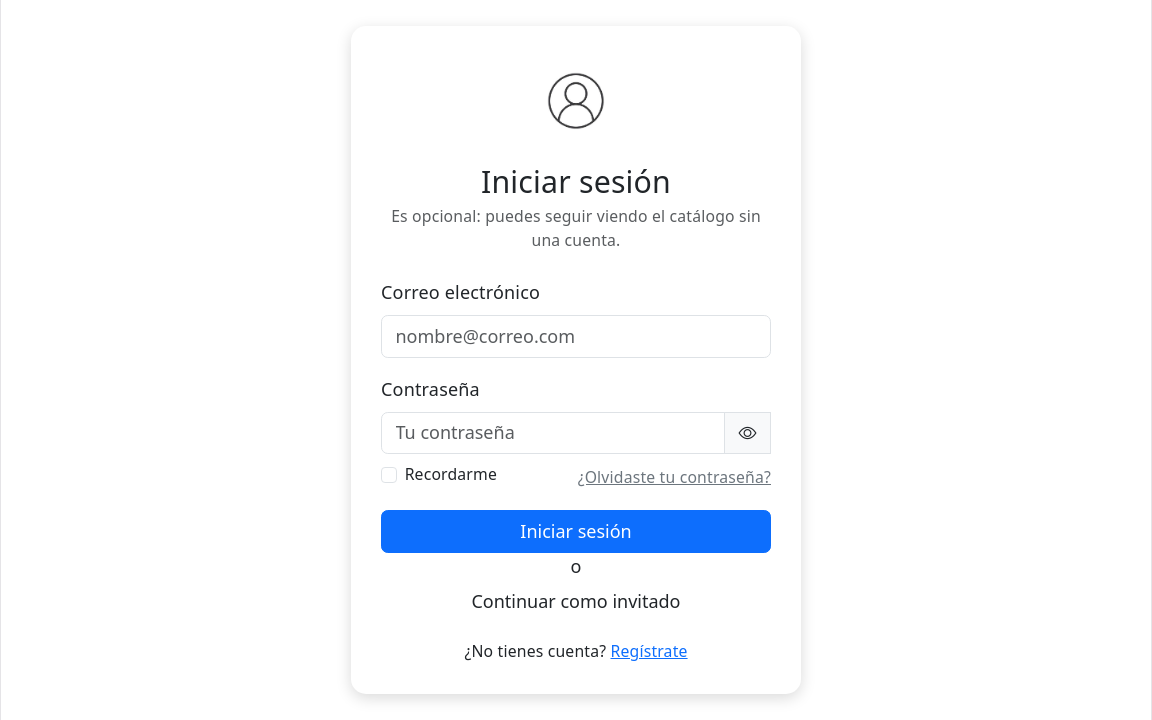
it: inicio de sesión › las contraseñas no se validan en localStorage
Type "user@playroute.com" into the field labelled "Correo electrónico" at [576, 336], box [381,315,771,358]
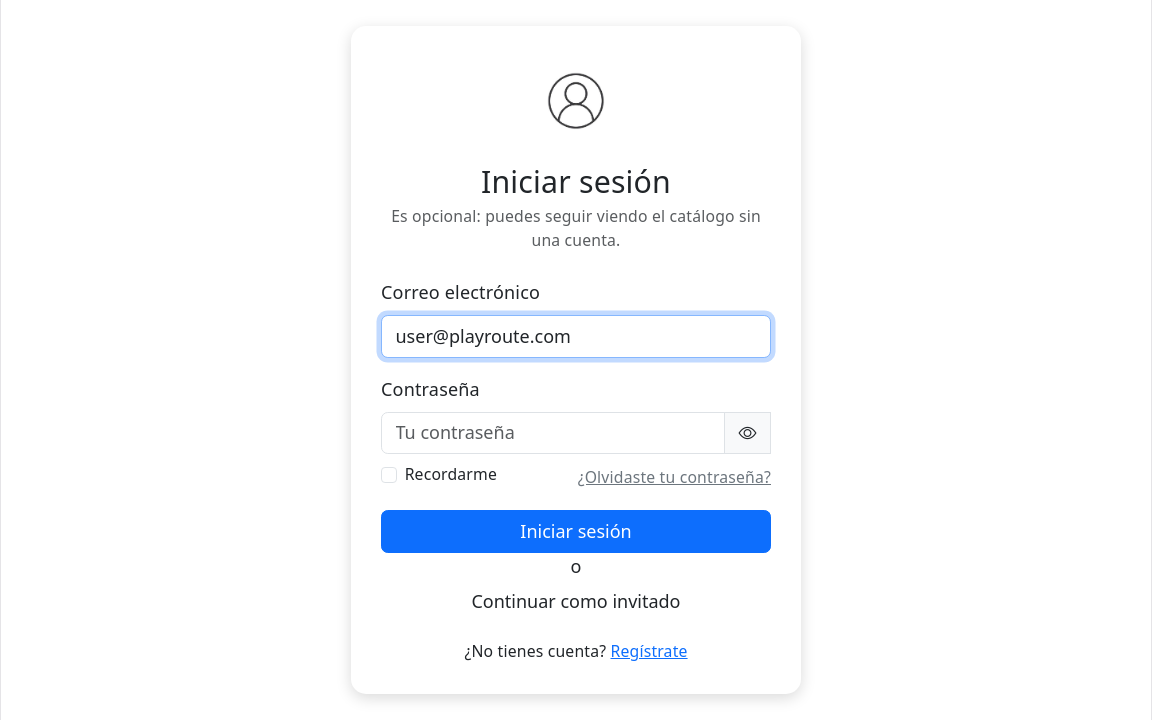
Type "clave-mala" into the password field labelled "Contraseña" at [553, 433], box [381,412,725,454]
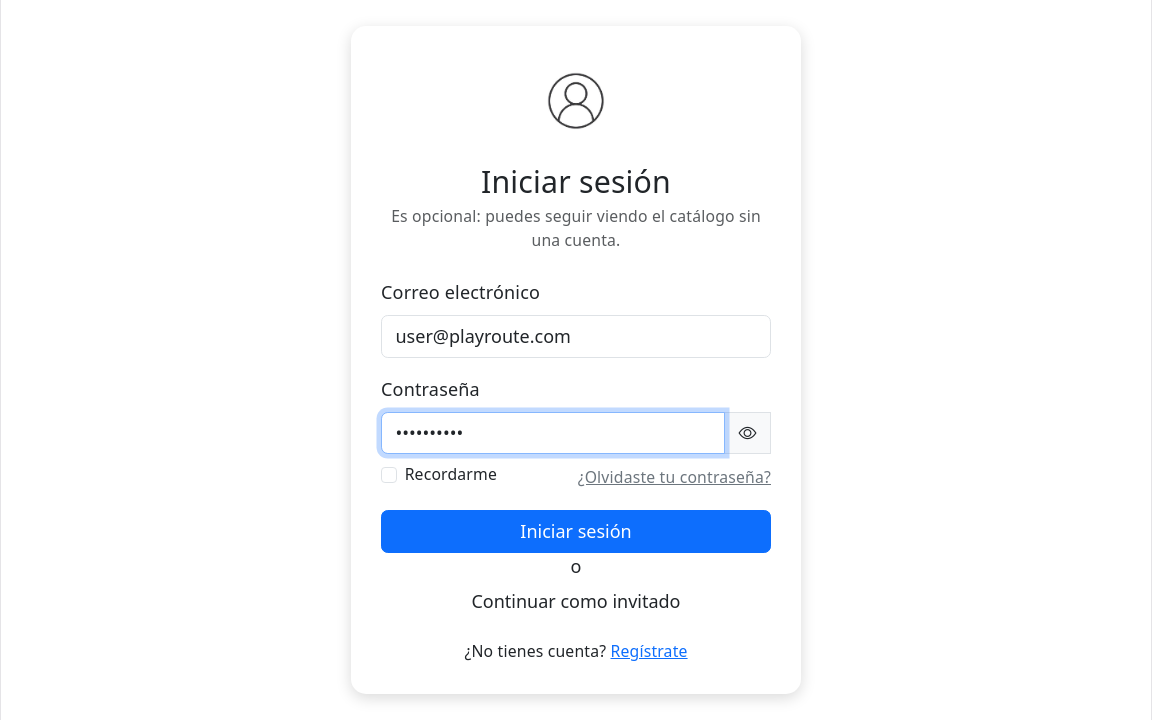
Click the button "Iniciar sesión" at [576, 532], box [381,510,771,553]
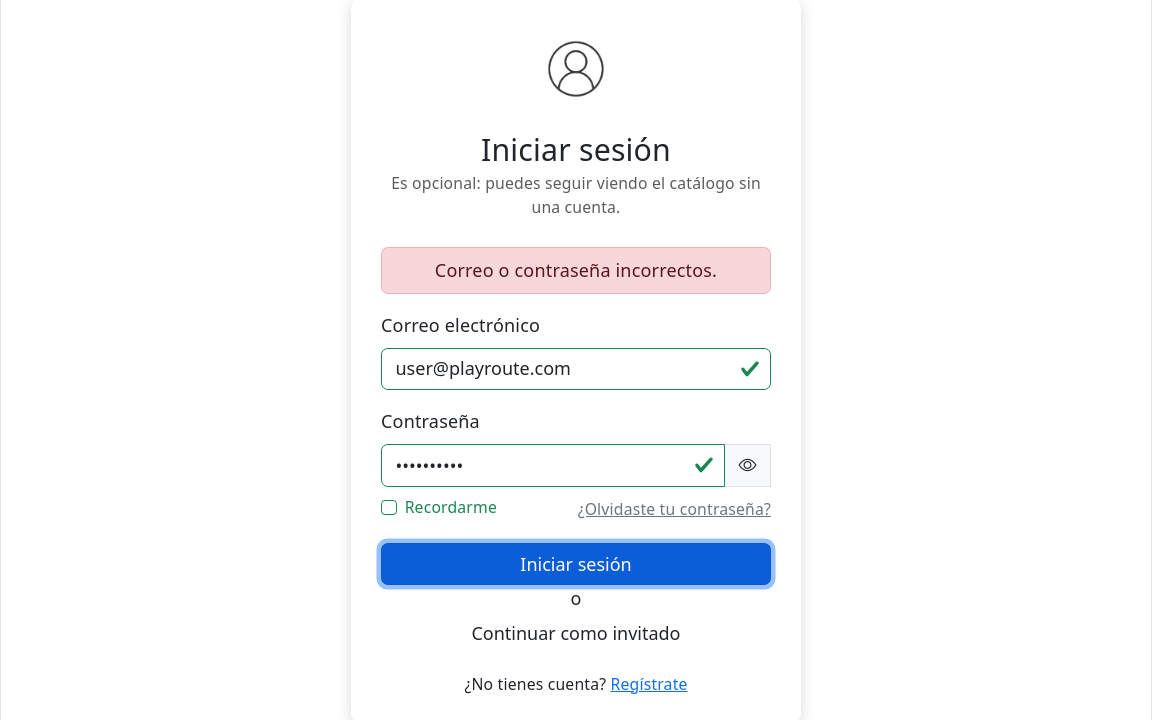
Result: the text "Correo o contraseña incorrectos." is shown at [381,247,771,294]
